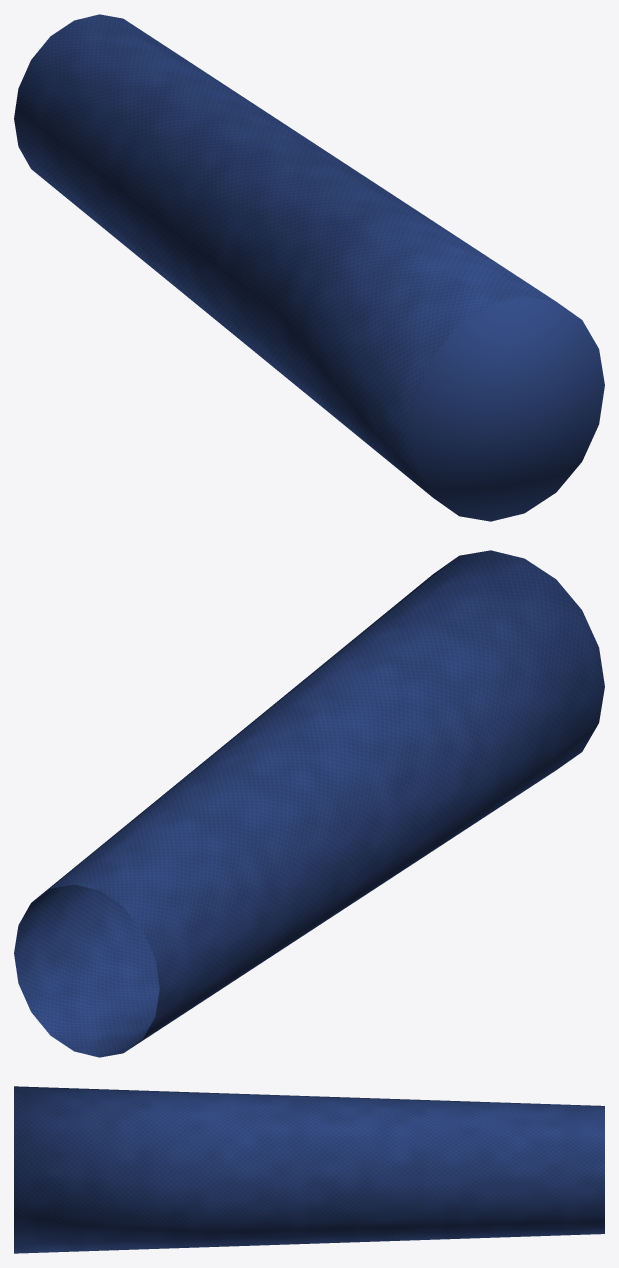
File: fp_upper_storybook.glb
The picture shows the model from 3 angles, top to bottom: view 1: azimuth 30°, elevation 25°; view 2: azimuth 150°, elevation 25°; view 3: azimuth 270°, elevation 25°; orthographic projection. The views are drawn at different scales.
Parts seen in each view (by area): view 1: fp_upper; view 2: fp_upper; view 3: fp_upper.
Part boxes in pixels (bbox=[...]): fp_upper: bbox=[14, 14, 604, 521]; fp_upper: bbox=[14, 550, 604, 1057]; fp_upper: bbox=[14, 1086, 604, 1253].
Bounding box in the file's own units: 0.096 × 0.1024 × 0.36.
Materials: 1 (1 with a texture image).
